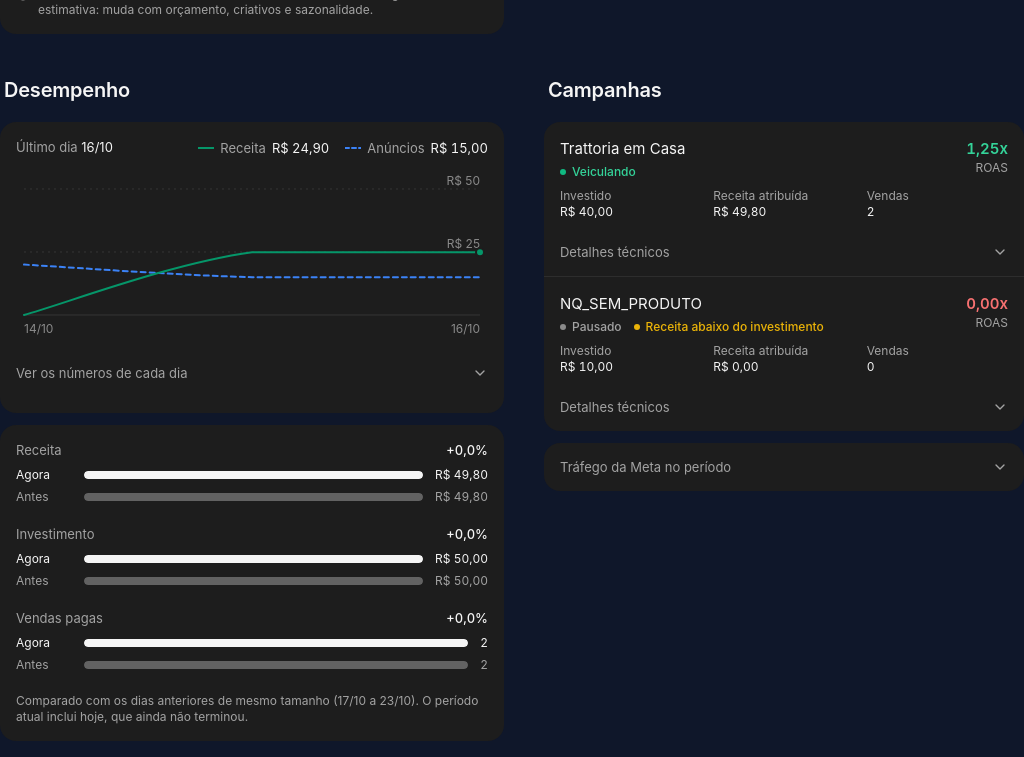
Test: NORQVA-0082 — Visão Geral premium › mostra o gráfico diário com a lista dos dias
(page scrolled)
Click the button "Ver os números de cada dia" at (102, 373), box [0, 349, 504, 397]
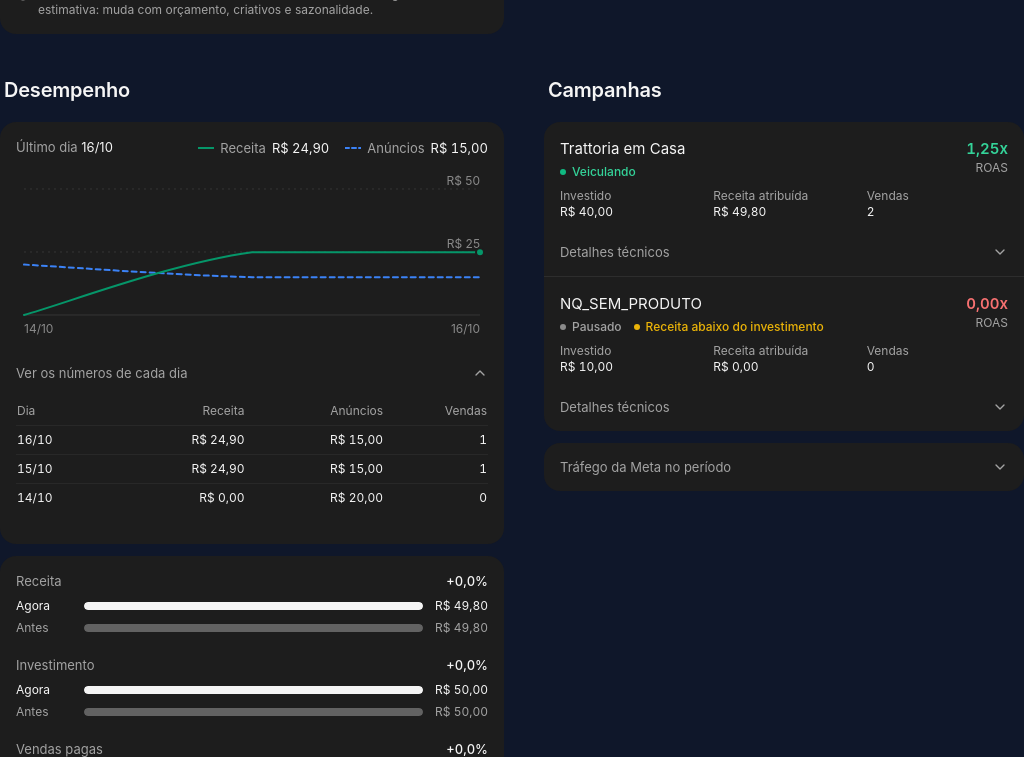
Expected: the element with test id "daily-table" shows "R$ 20,00", [330, 490, 383, 505]
